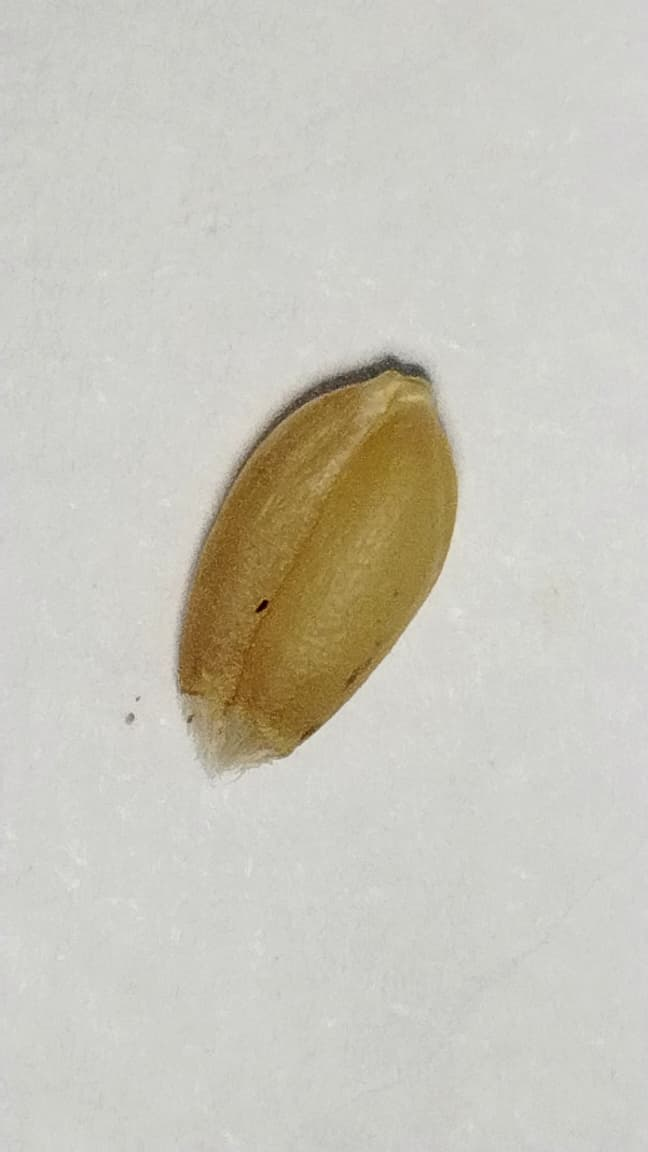healthy: (179, 365, 457, 770)
